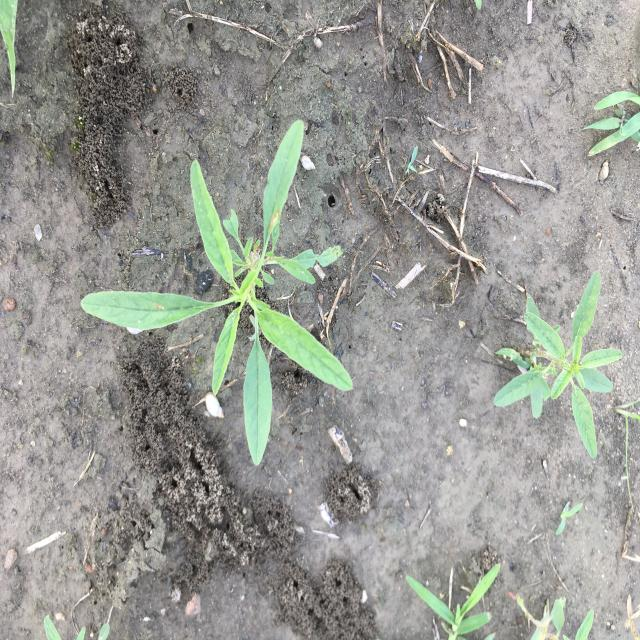Waterhemp: (79, 118, 356, 467), (490, 270, 622, 460)
